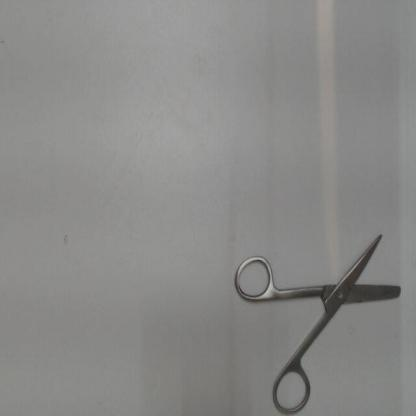Dressing Scissors: (228, 222, 410, 416)
